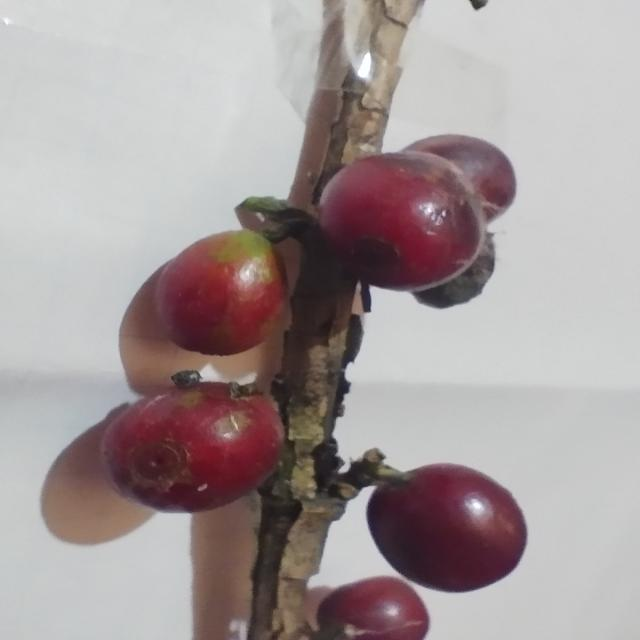Danado: (103, 382, 283, 513), (413, 233, 495, 309)
Sano: (319, 149, 486, 293), (367, 464, 527, 592), (155, 230, 284, 356), (401, 134, 516, 223), (316, 576, 429, 640)
